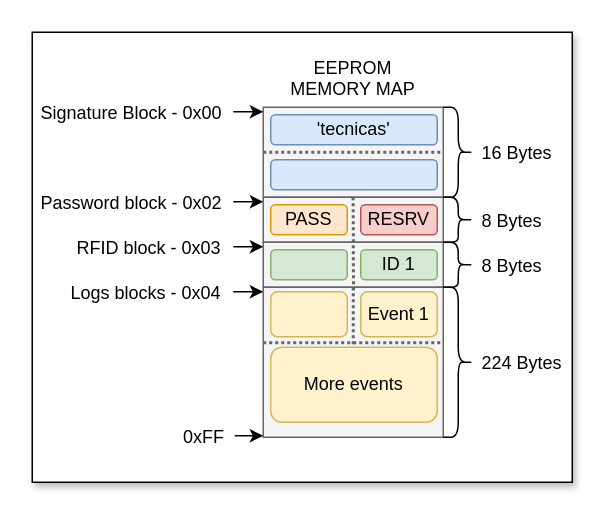
This 608x519 diagram has some shape labels left out. The shapes that lost their labels are listed below. From the top down, each one's centre as x and y in pixels, then its label:
At (353,174): "'digitale'".
At (308,264): "ID 0".
At (308,313): "Event 0".
